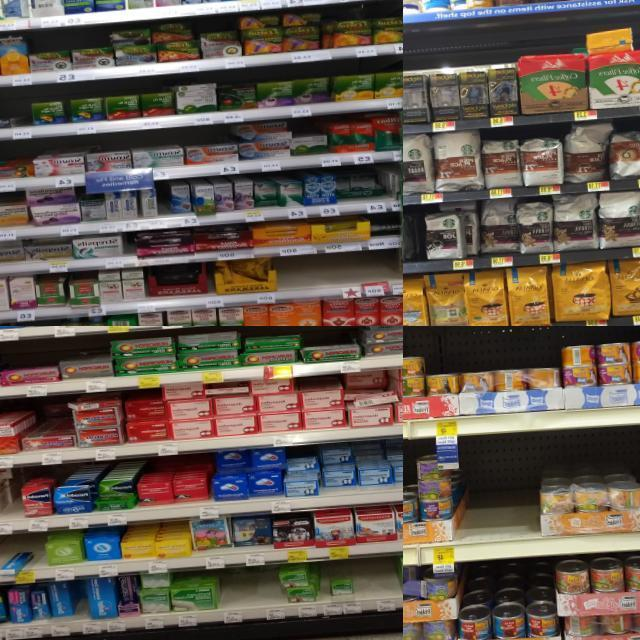empty: (466, 436, 538, 560), (278, 250, 401, 301), (358, 555, 398, 612), (219, 571, 251, 622), (251, 568, 281, 620), (10, 92, 32, 140), (0, 484, 21, 534), (26, 534, 46, 580)
